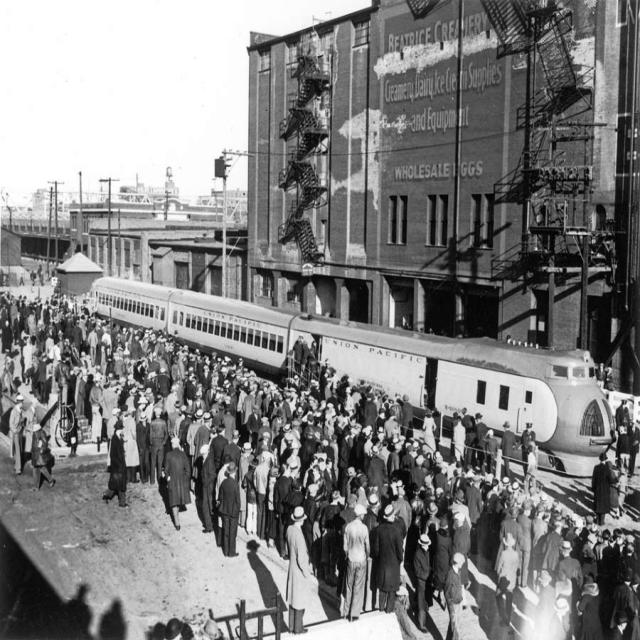body: (204, 334, 398, 503), (556, 420, 639, 639), (0, 286, 123, 401), (451, 465, 594, 527), (123, 326, 204, 417), (308, 472, 346, 589), (244, 538, 289, 632), (62, 573, 126, 639), (398, 438, 452, 513), (340, 500, 372, 622), (372, 502, 405, 615), (284, 505, 312, 635), (162, 436, 191, 531), (493, 530, 520, 629), (102, 418, 131, 508), (216, 459, 241, 558), (411, 532, 435, 634), (335, 493, 358, 599), (26, 415, 56, 493), (448, 488, 474, 576), (591, 451, 621, 526), (272, 462, 295, 559), (441, 550, 466, 639), (390, 484, 413, 580), (531, 566, 559, 639), (17, 396, 43, 473), (574, 574, 604, 640), (401, 315, 489, 337), (192, 412, 214, 499), (432, 515, 452, 608), (198, 442, 218, 533), (236, 440, 256, 529), (530, 502, 550, 590), (7, 392, 28, 475), (147, 406, 169, 485), (451, 404, 478, 466), (540, 520, 564, 588), (466, 564, 493, 624), (516, 502, 534, 590), (512, 421, 538, 481), (240, 458, 259, 538), (264, 462, 281, 548), (122, 406, 140, 485), (98, 378, 120, 441), (558, 540, 584, 592), (365, 444, 389, 500), (134, 409, 152, 483), (301, 482, 319, 556), (87, 371, 104, 445), (186, 408, 206, 470), (499, 418, 519, 478), (208, 422, 230, 474), (499, 507, 524, 552), (178, 406, 195, 470), (420, 406, 438, 464), (546, 596, 570, 639), (481, 428, 500, 482), (17, 260, 52, 288), (473, 411, 488, 475), (220, 428, 242, 468), (62, 400, 93, 426), (362, 492, 381, 534), (453, 412, 467, 468), (614, 398, 631, 438), (423, 500, 442, 535), (220, 406, 237, 445), (401, 393, 415, 439), (285, 476, 306, 506), (166, 399, 182, 438), (406, 512, 412, 615), (500, 333, 540, 346), (173, 404, 188, 438), (603, 364, 614, 400), (595, 361, 607, 389)
